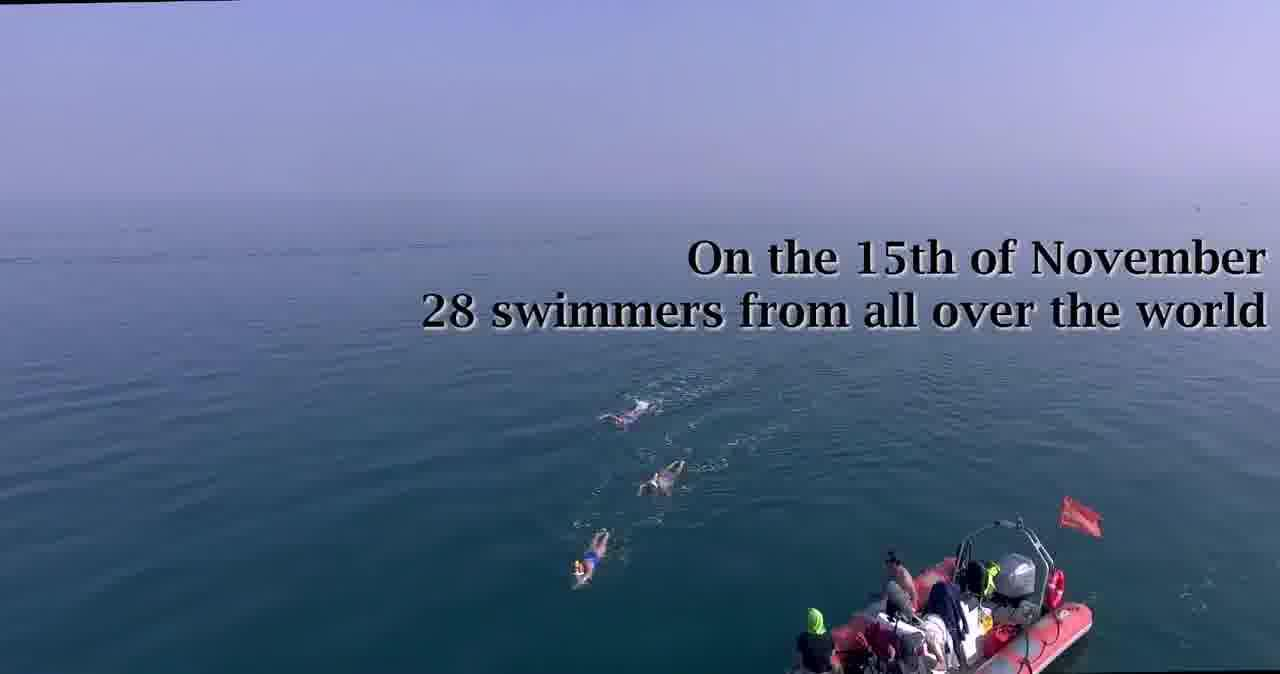swimmer: (561, 520, 615, 596), (631, 458, 683, 506)
